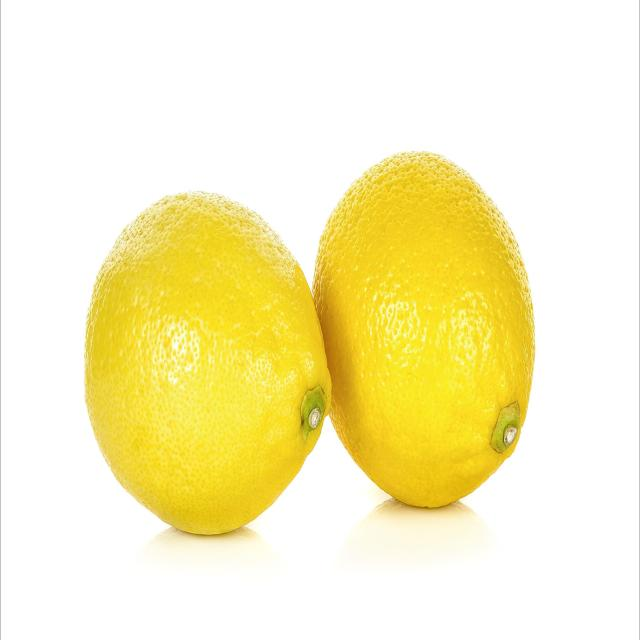lemon: (79, 147, 538, 543)
